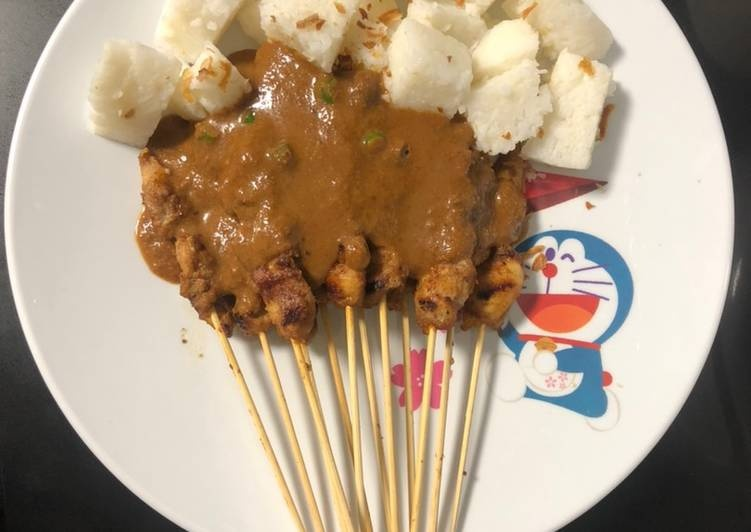sate_madura: (135, 144, 528, 532)
